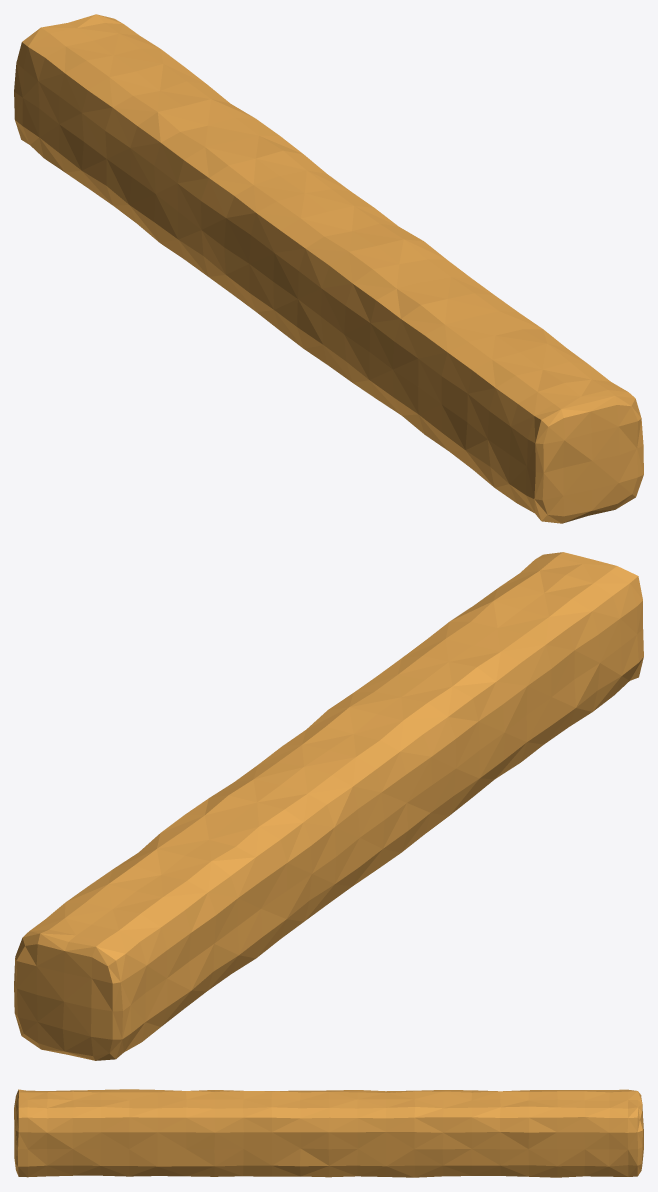
The model's file is firewoodLog.fbx.
3 views of the same model, one above another, from view 1: azimuth 30°, elevation 25°; view 2: azimuth 150°, elevation 25°; view 3: azimuth 270°, elevation 25° (orthographic). The views are drawn at different scales.
Parts seen in each view (by area): view 1: FirewoodLog; view 2: FirewoodLog; view 3: FirewoodLog.
Boxes of the visible parts, <box> form: FirewoodLog: <box>14,14,643,523</box>; FirewoodLog: <box>14,552,643,1060</box>; FirewoodLog: <box>14,1089,643,1177</box>.
Size of the model in its own units: 1.1 by 1.1 by 9.03.
